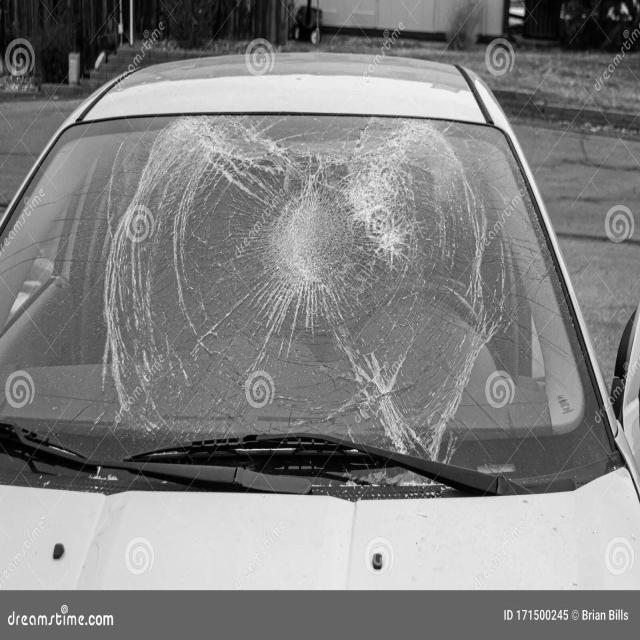crack: (86, 116, 571, 480)
